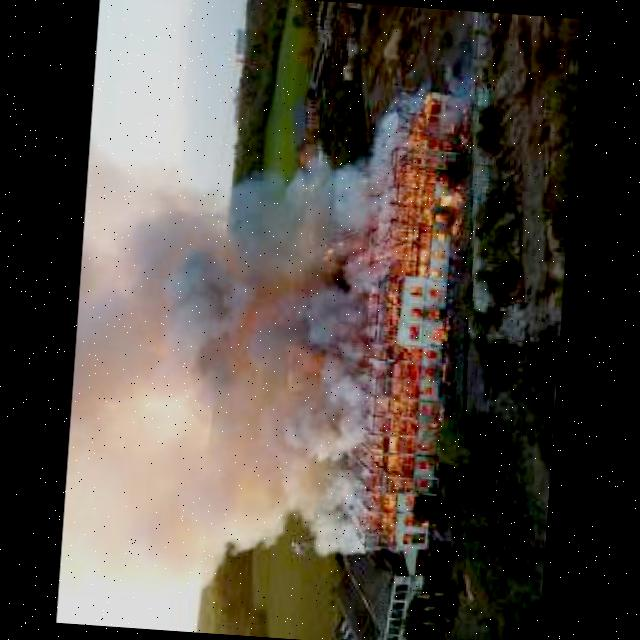fire: (370, 89, 470, 554)
